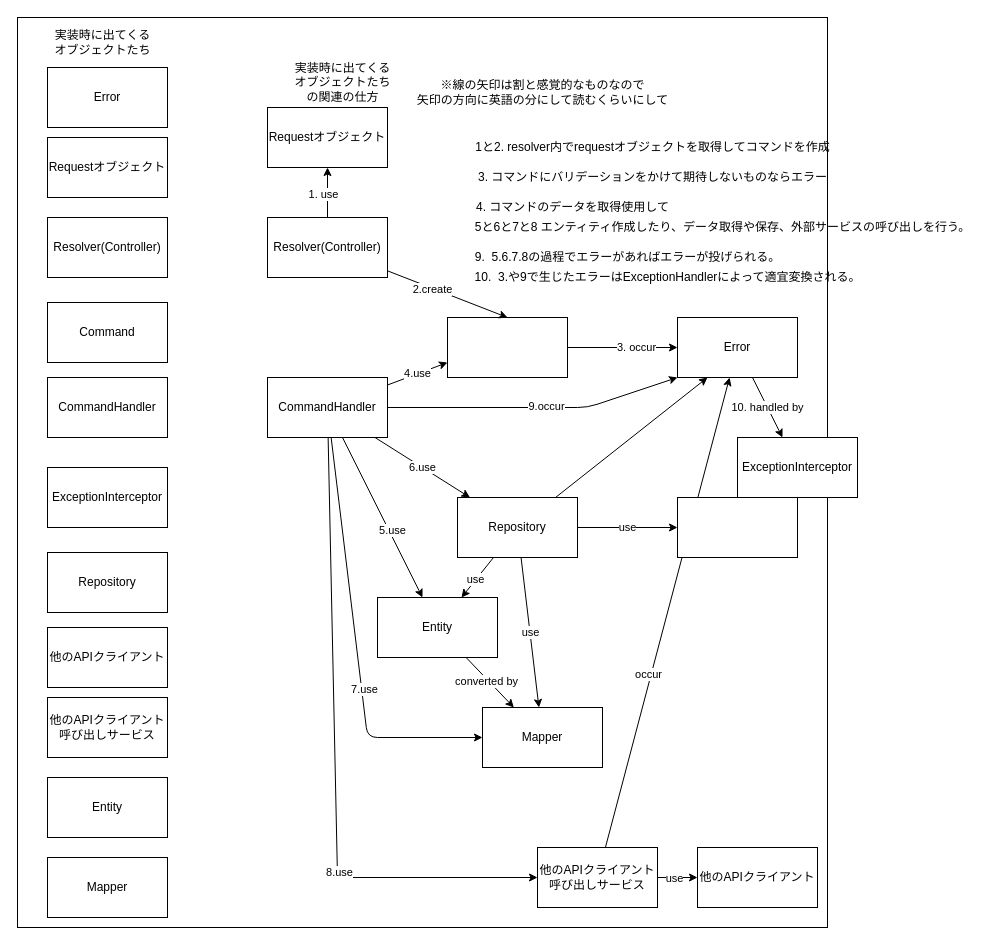
The diagram is 995 pixels wide and 945 high, and some of its shapes have lost their labels. The box of each missing label's shape, as (x1, y1, x2, y2) in pixels:
Command (dto): (446, 316, 568, 378)
prismaClient: (676, 496, 798, 558)
